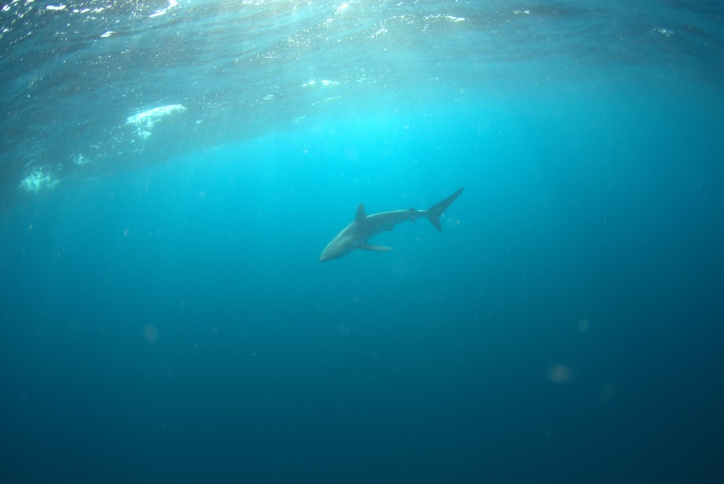Sedoso: (312, 173, 477, 273)
